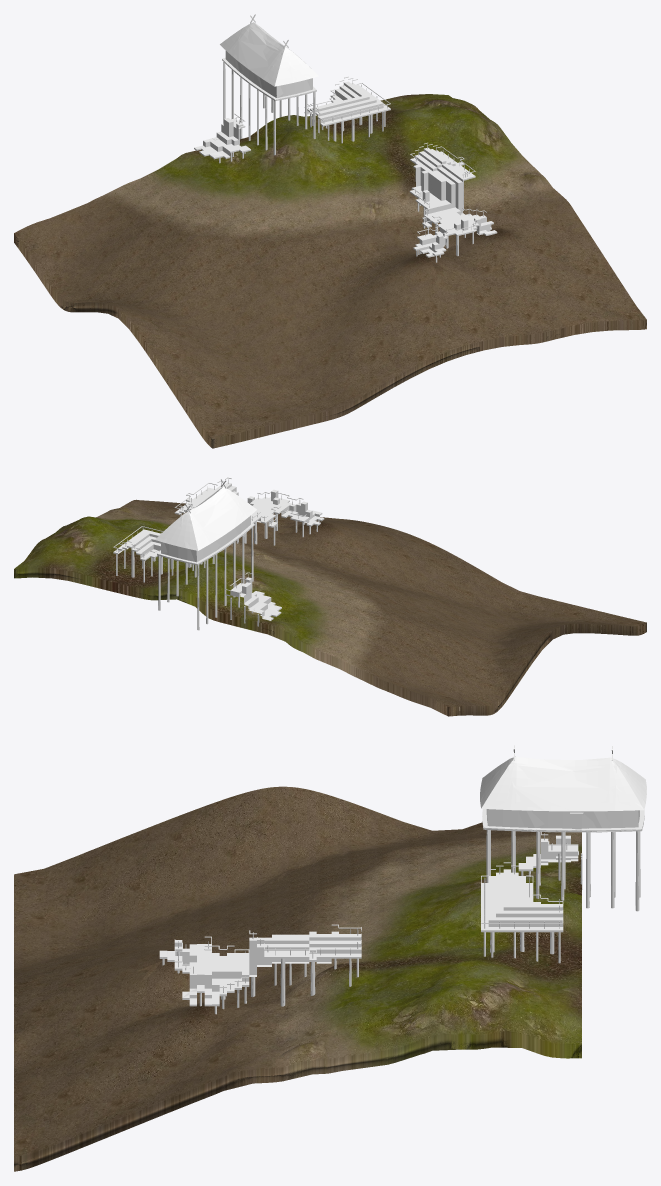
Rendered from chunk_2_5.glb.
The picture shows the model from 3 angles, top to bottom: view 1: azimuth 30°, elevation 25°; view 2: azimuth 150°, elevation 25°; view 3: azimuth 270°, elevation 25°; orthographic projection. The views are drawn at different scales.
Visible parts, largest first — view 1: Terrain_L0, Terrain_L2, Terrain_L1, Buildings_L0, Buildings_L1; view 2: Terrain_L0, Terrain_L2, Terrain_L1, Buildings_L0, Buildings_L1; view 3: Terrain_L0, Terrain_L2, Terrain_L1, Buildings_L0, Buildings_L1.
Part boxes in pixels (x1,y1,x2,y2): Terrain_L0: (14,94,646,448); Terrain_L2: (14,94,646,447); Terrain_L1: (15,94,643,448); Buildings_L0: (194,14,497,262); Buildings_L1: (199,22,494,256); Terrain_L0: (14,499,646,716); Terrain_L2: (14,500,646,716); Terrain_L1: (14,503,646,716); Buildings_L0: (113,477,324,630); Buildings_L1: (118,484,320,629); Terrain_L0: (14,786,581,1171); Terrain_L2: (14,821,581,1171); Terrain_L1: (14,805,581,1170); Buildings_L0: (159,745,646,1014); Buildings_L1: (161,756,646,1006).
Size of the model in its own units: 96 by 46.48 by 84.69.
Materials: 3 (1 with a texture image).
